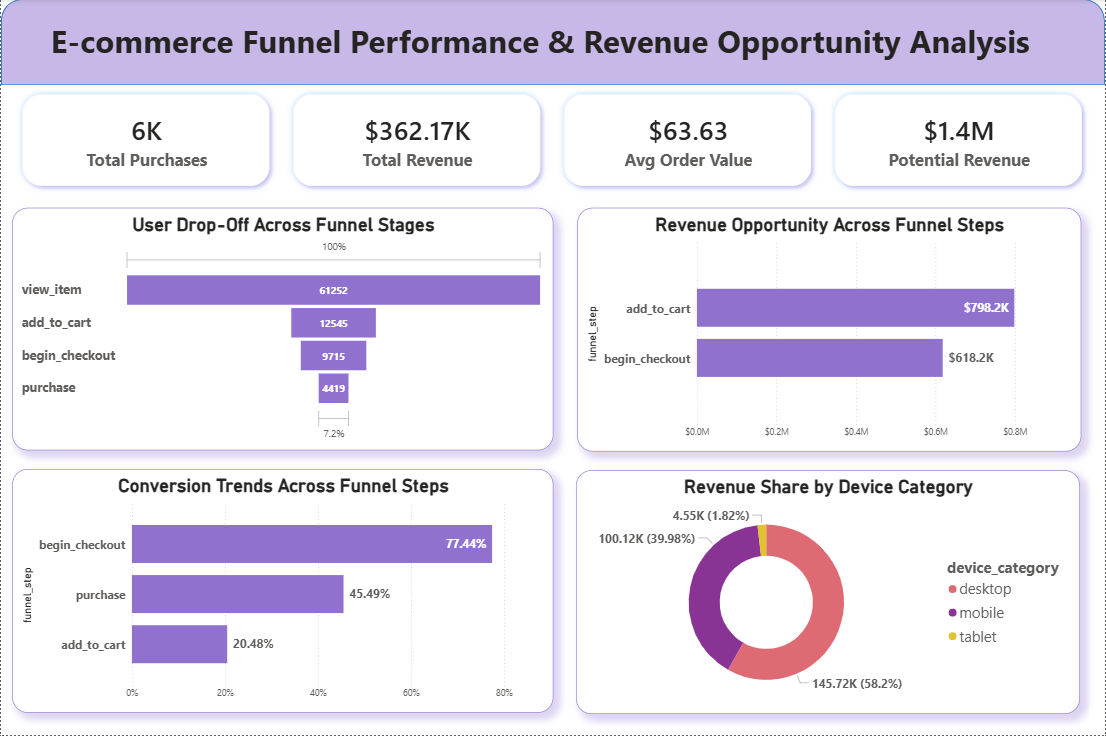

Layout of this report page (visuals, bound fields, positions):
{"tool":"powerbi","page":{"name":"Page 1","canvas":[1400,1000],"ordinal":0},"visuals":[{"type":"shape","box":[0,0,1400.1,117.7],"z":0},{"type":"funnel","title":"User Drop-Off Across Funnel Stages","fields":{"Category":["vw_funnel_user_counts.funnel_step"],"Y":["Sum(vw_funnel_user_counts.users)"]},"box":[15.3,283.6,699.7,329.5],"z":1000},{"type":"cardVisual","fields":{"Data":["Sum(vw_revenue_metrics.total_purchases)","Sum(vw_revenue_metrics.total_revenue)","Sum(vw_revenue_metrics.avg_order_value)","Sum(vw_funnel_revenue_opportunity.potential_revenue)"]},"box":[0,100.9,1400.1,181.9],"z":2000},{"type":"clusteredBarChart","title":"Revenue Opportunity Across Funnel Steps","fields":{"Y":["Sum(vw_funnel_revenue_opportunity.potential_revenue)"],"Category":["vw_funnel_revenue_opportunity.funnel_step"]},"box":[735.4,281.9,633.5,331.2],"z":3000},{"type":"clusteredBarChart","title":"Conversion Trends Across Funnel Steps","fields":{"Category":["vw_funnel_conversion.funnel_step"],"Y":["Sum(vw_funnel_conversion.Conversion_from_previous_step)"]},"box":[32.3,638.6,682.7,331.2],"z":4000},{"type":"donutChart","title":"Revenue Share by Device Category","fields":{"Category":["vw_device_revenue.device_category"],"Y":["Sum(vw_device_revenue.device_revenue)"]},"box":[735.4,638.6,633.5,331.2],"z":4001},{"type":"textbox","box":[0,22.1,1399.5,78.1],"z":4002}]}

Visuals, with their boxes on the page's 1400x1000 design canvas (x1, y1, x2, y2). These are canvas units, not pixel positions in the 1106x736 screenshot, which may show the page scaled, cropped or inside an application window:
shape: 0 0 1400 118
"User Drop-Off Across Funnel Stages" funnel: 15 284 715 613
cardVisual - Sum(vw_revenue_metrics.total_purchases) x Sum(vw_revenue_metrics.total_revenue): 0 101 1400 283
"Revenue Opportunity Across Funnel Steps" clusteredBarChart: 735 282 1369 613
"Conversion Trends Across Funnel Steps" clusteredBarChart: 32 639 715 970
"Revenue Share by Device Category" donutChart: 735 639 1369 970
textbox: 0 22 1400 100
